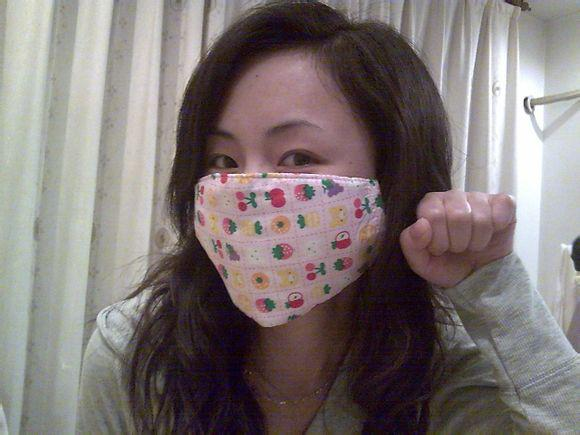OK: (200, 120, 387, 323)
